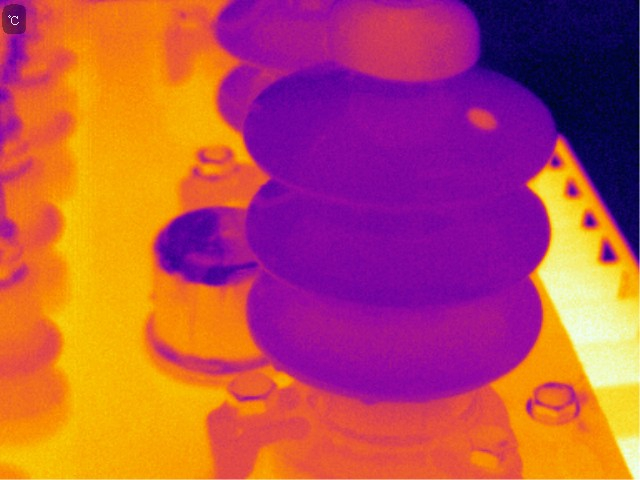Oil: (345, 1, 471, 85), (459, 105, 503, 134), (270, 353, 286, 376), (360, 392, 382, 408)
